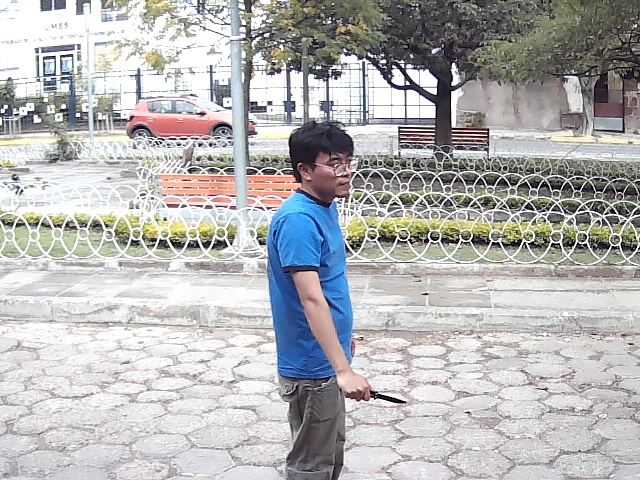cuchillo: (341, 371, 411, 411)
